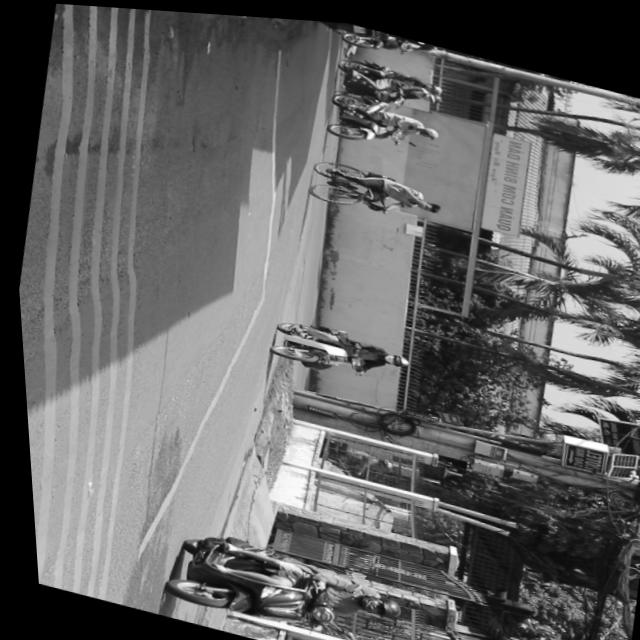helmet: (352, 588, 397, 619)
licenseplate: (152, 518, 406, 640)
